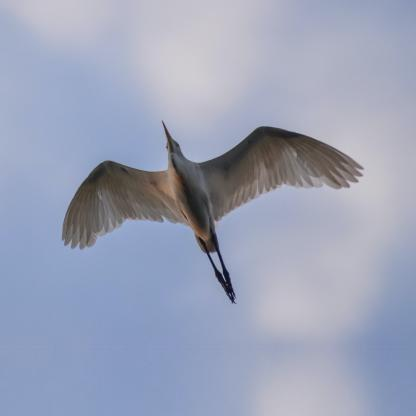bird: (61, 120, 364, 306)
